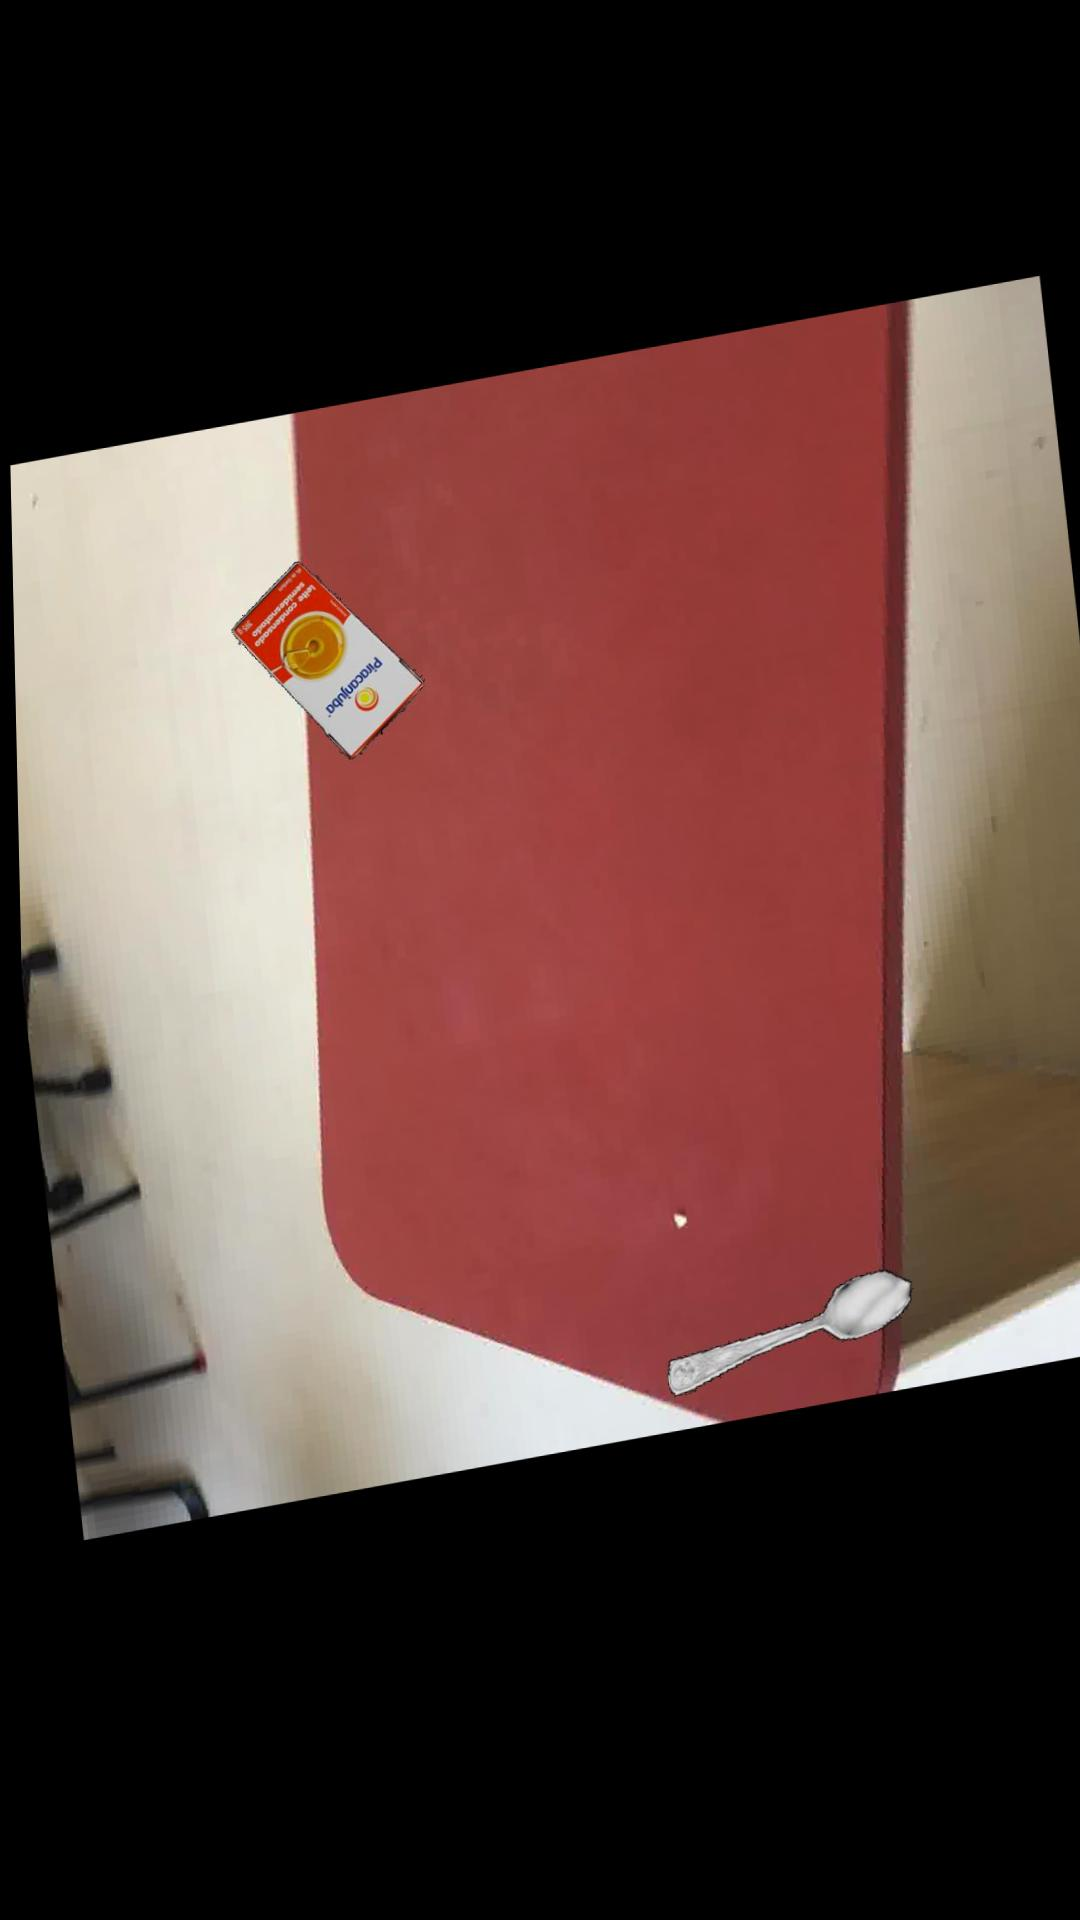spoon: (657, 1286, 902, 1410)
